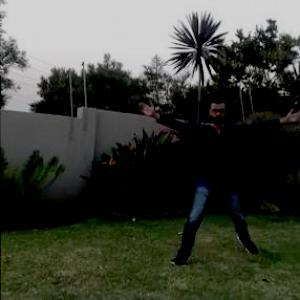takeoff: (142, 95, 299, 268)
